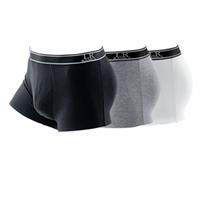mutande: (8, 45, 116, 131), (105, 45, 159, 127), (147, 44, 191, 125)
